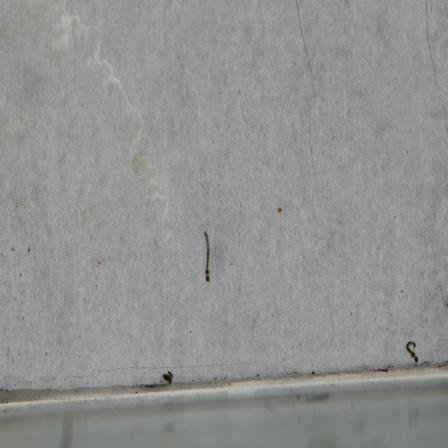Jentik-Nyamuk: (197, 229, 214, 281), (404, 335, 424, 368), (158, 366, 179, 393)
